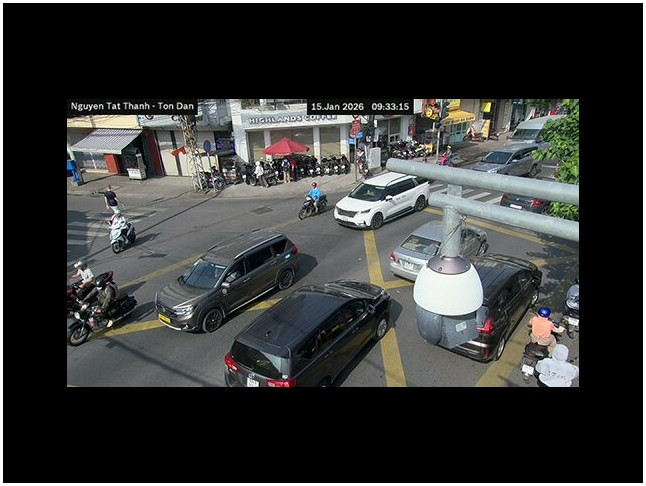car: (222, 278, 402, 385), (412, 246, 543, 363), (156, 232, 300, 333), (388, 219, 492, 283), (333, 170, 432, 230)
motorbike: (67, 283, 138, 346), (110, 218, 136, 253)
